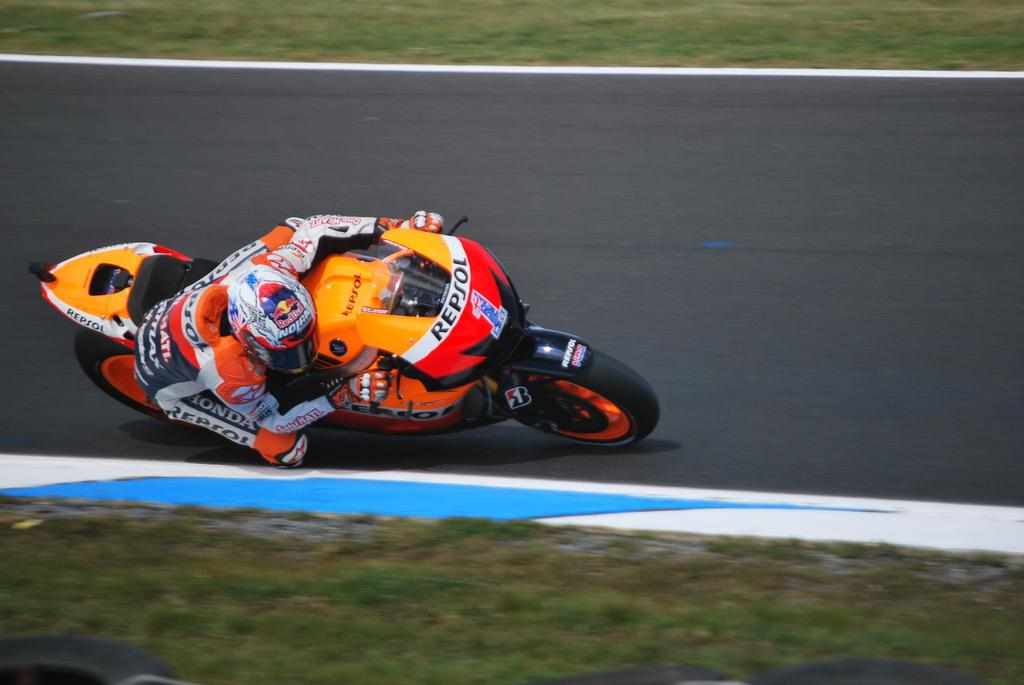helmet: (227, 265, 321, 374)
